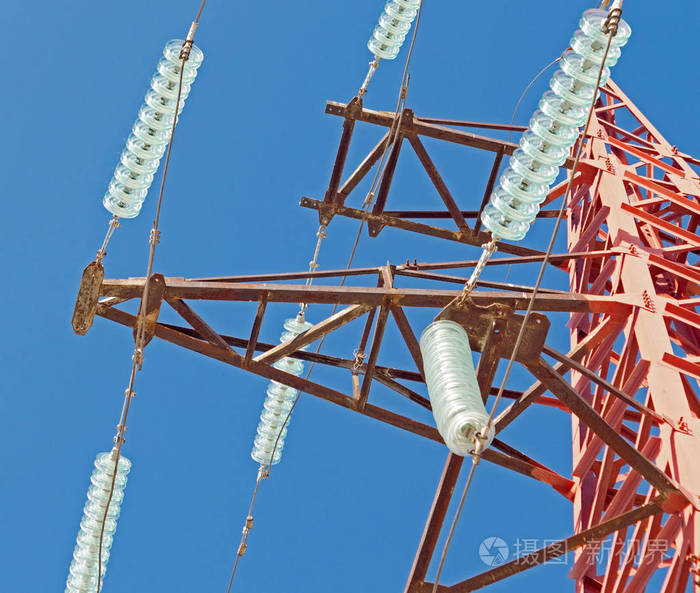insulator: (479, 9, 636, 239), (102, 36, 200, 220), (422, 320, 494, 457), (64, 453, 132, 593), (249, 317, 310, 467), (363, 1, 419, 62)
